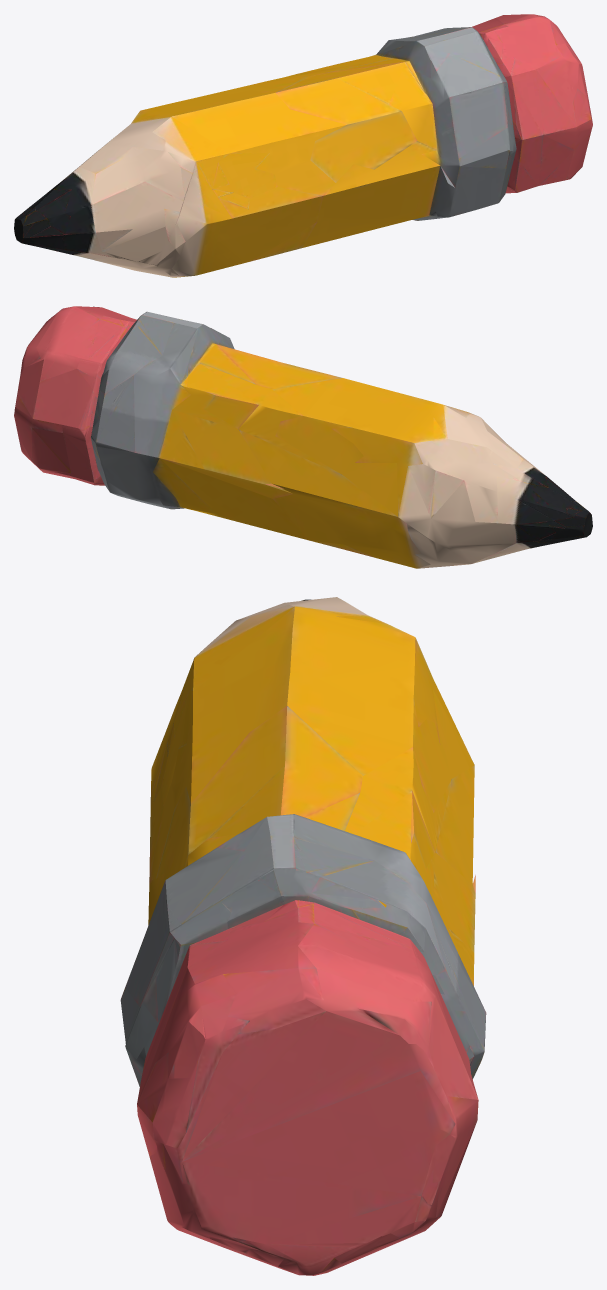
File: pencil.glb
3 views of the same model, one above another, from view 1: azimuth 30°, elevation 25°; view 2: azimuth 150°, elevation 25°; view 3: azimuth 270°, elevation 25° (orthographic). The views are drawn at different scales.
Visible parts, largest first — view 1: Mesh_0; view 2: Mesh_0; view 3: Mesh_0.
Part boxes in pixels (left/top/right/bottom): Mesh_0: left=14, top=14, right=592, bottom=277; Mesh_0: left=14, top=306, right=592, bottom=568; Mesh_0: left=120, top=597, right=486, bottom=1275.
Bounding box in the file's own units: 2 × 0.6334 × 0.5865.
Materials: 1 (1 with a texture image).
